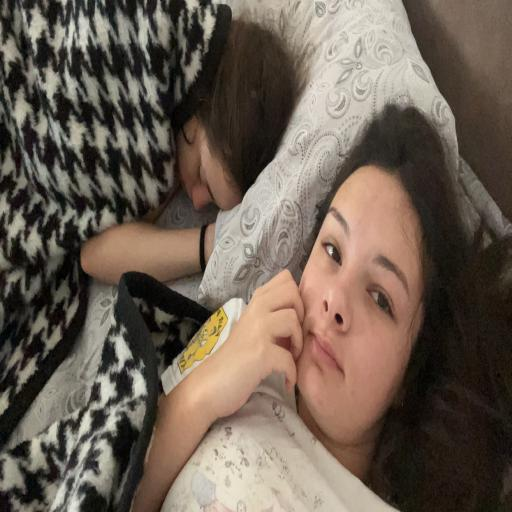marija: (292, 139, 432, 420)
masa: (177, 113, 244, 214)
